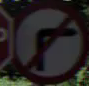Don't turn right: (15, 12, 79, 72)
